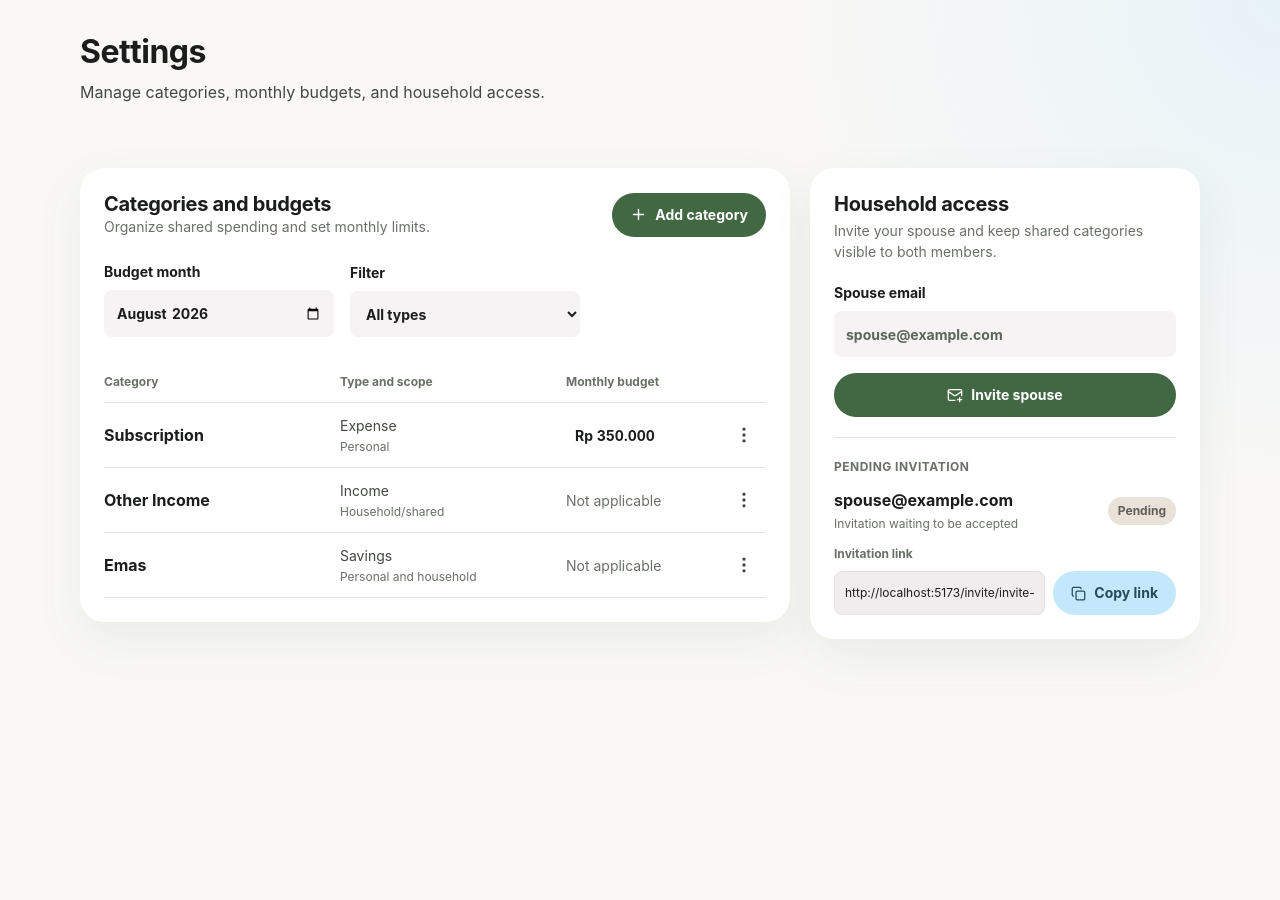
Scenario: OpenDesign Settings conversion › uses the compact category table and opens category editing contextually
Expected: the heading "Settings" is shown, x1=80 y1=32 x2=206 y2=71
Expected: the heading "Categories and budgets" is shown, x1=104 y1=192 x2=331 y2=216
Click the button "Add category" at [689, 214], box x1=612 y1=192 x2=766 y2=236
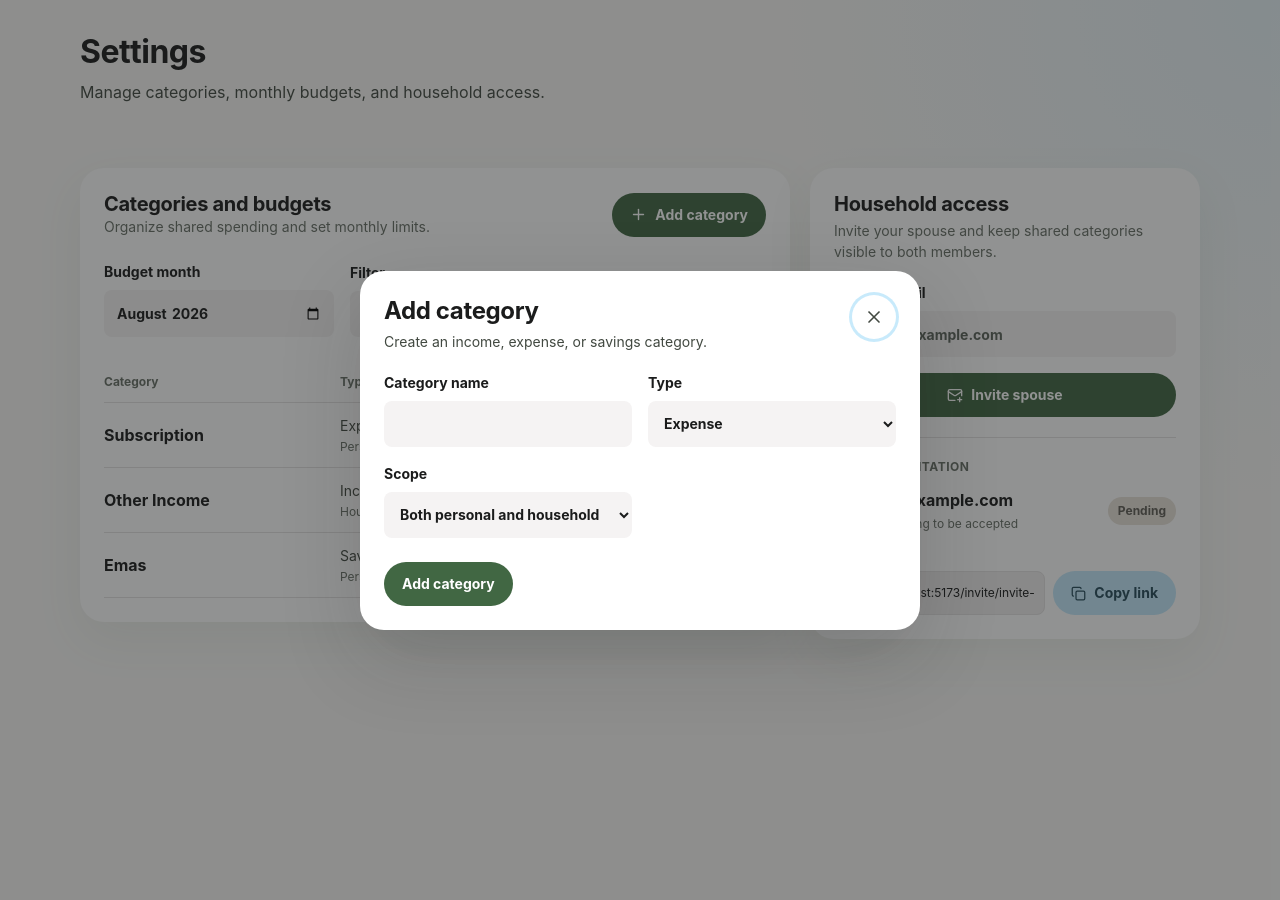
Expected: the dialog "Add category" is shown, x1=360 y1=270 x2=920 y2=630
